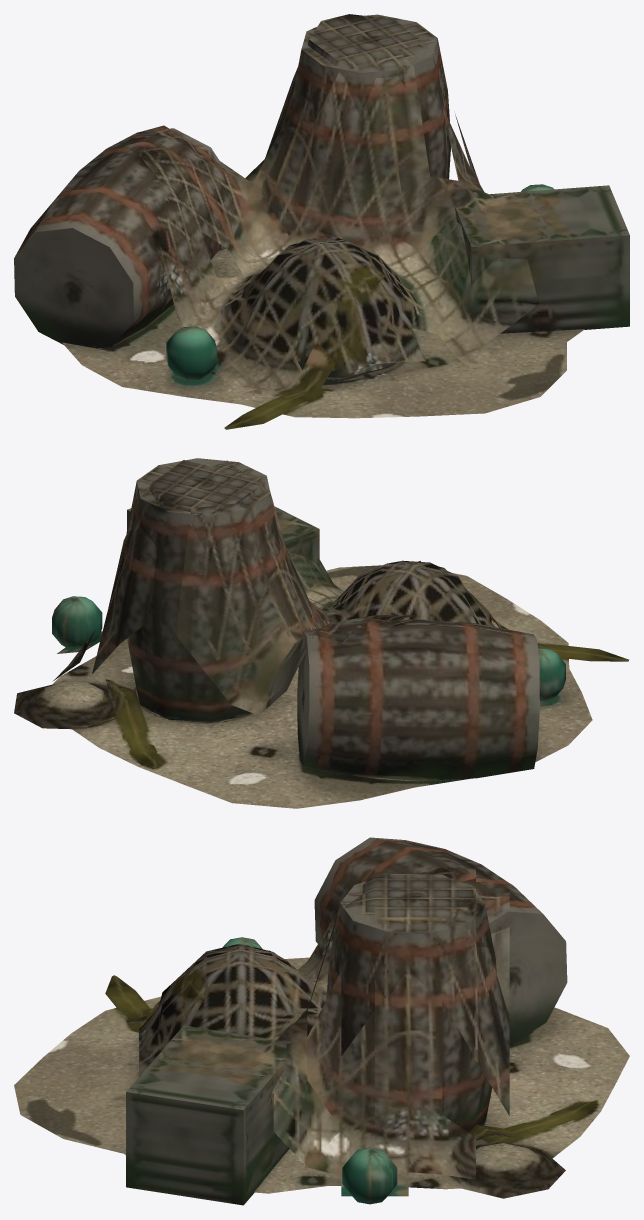
The model's file is drowned_nets.glb.
3 renders of one model, top to bottom at view 1: azimuth 30°, elevation 25°; view 2: azimuth 150°, elevation 25°; view 3: azimuth 270°, elevation 25°, orthographic. The views are drawn at different scales.
Visible parts, largest first — view 1: drowned_nets; view 2: drowned_nets; view 3: drowned_nets.
Boxes of the visible parts, x1,y1,x2,y2 form: drowned_nets: (14,14,629,429); drowned_nets: (14,458,629,808); drowned_nets: (14,837,629,1205).
Bounding box in the file's own units: 2.2 × 0.9306 × 2.17.
Materials: 1 (1 with a texture image).
